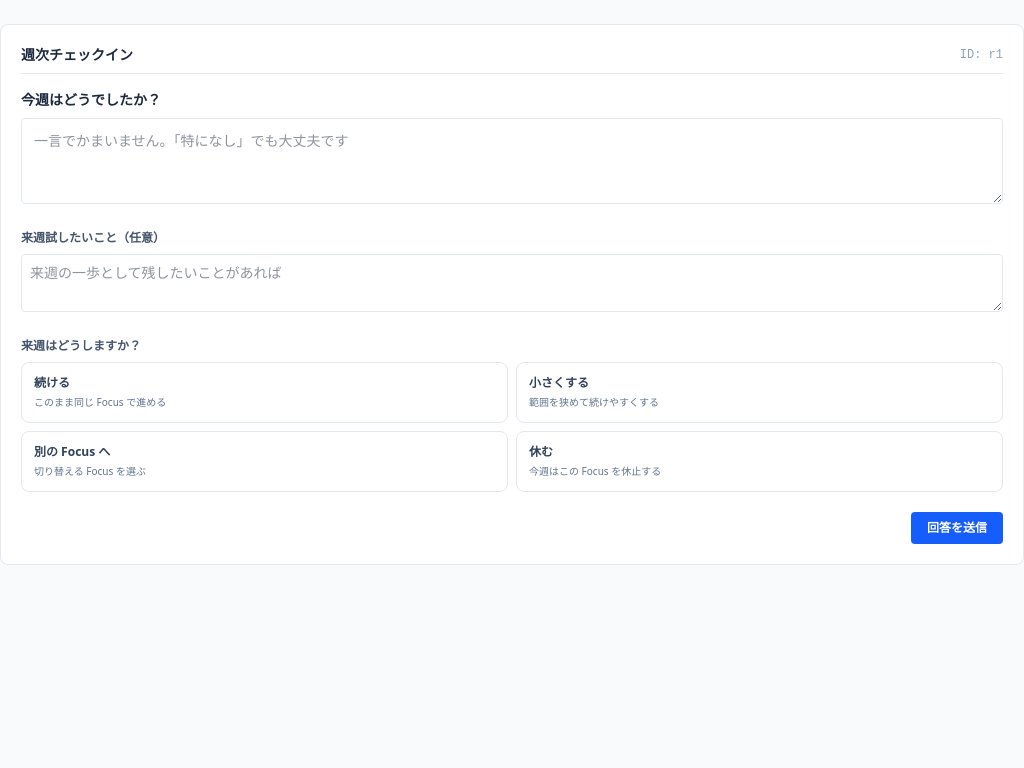
Test case: WeeklyCheckinCard › blocks change when there is no switchable focus
The width and height of the screenshot is (1024, 768).
Type "方向転換したい" into the text box named "今週の振り返り" at (512, 161), box left=21, top=118, right=1003, bottom=204
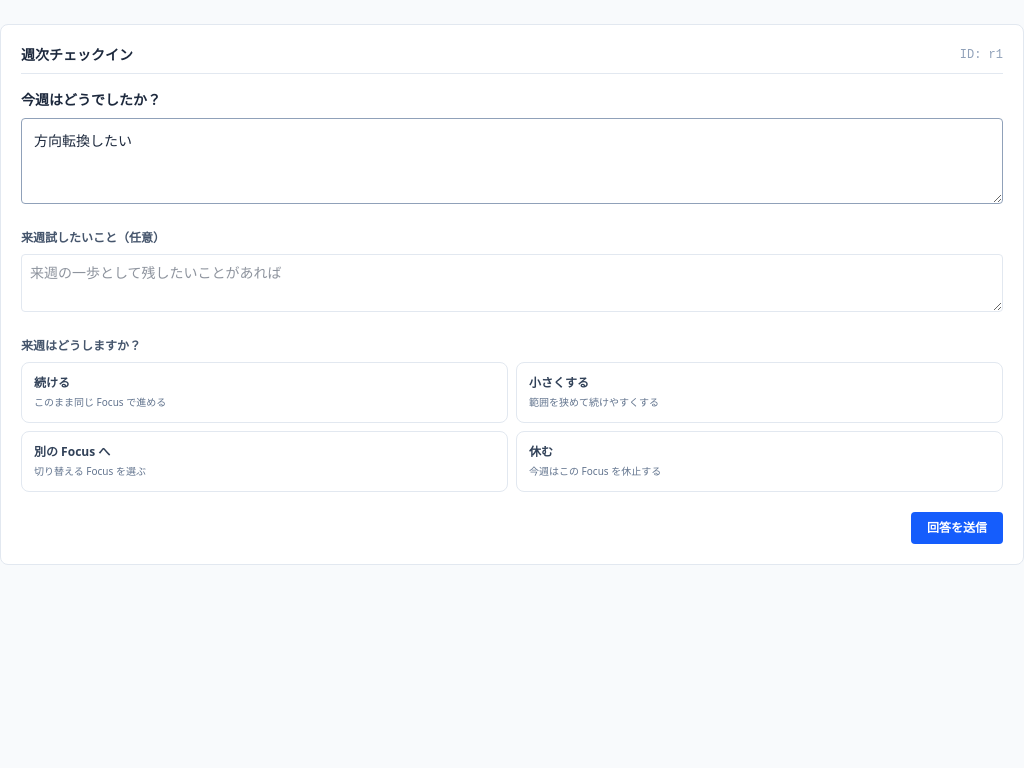
Click the button "別の Focus へ 切り替える Focus を選ぶ" at (72, 452), box left=21, top=431, right=508, bottom=492
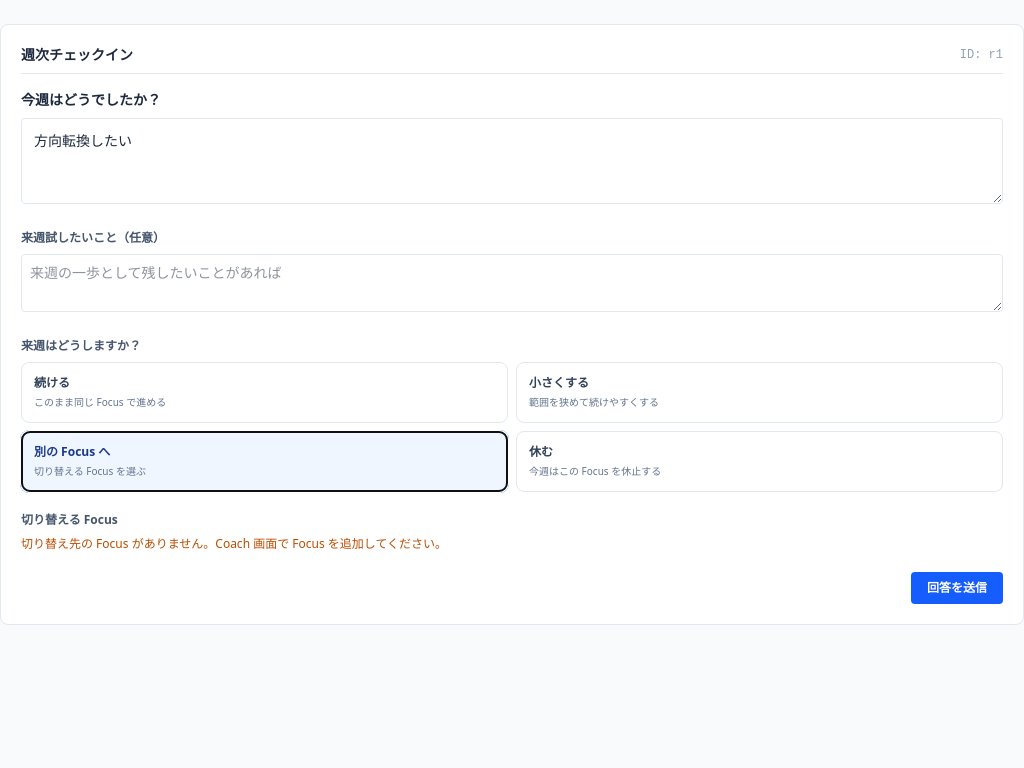
Click the button "回答を送信" at (957, 588), box left=911, top=572, right=1003, bottom=604
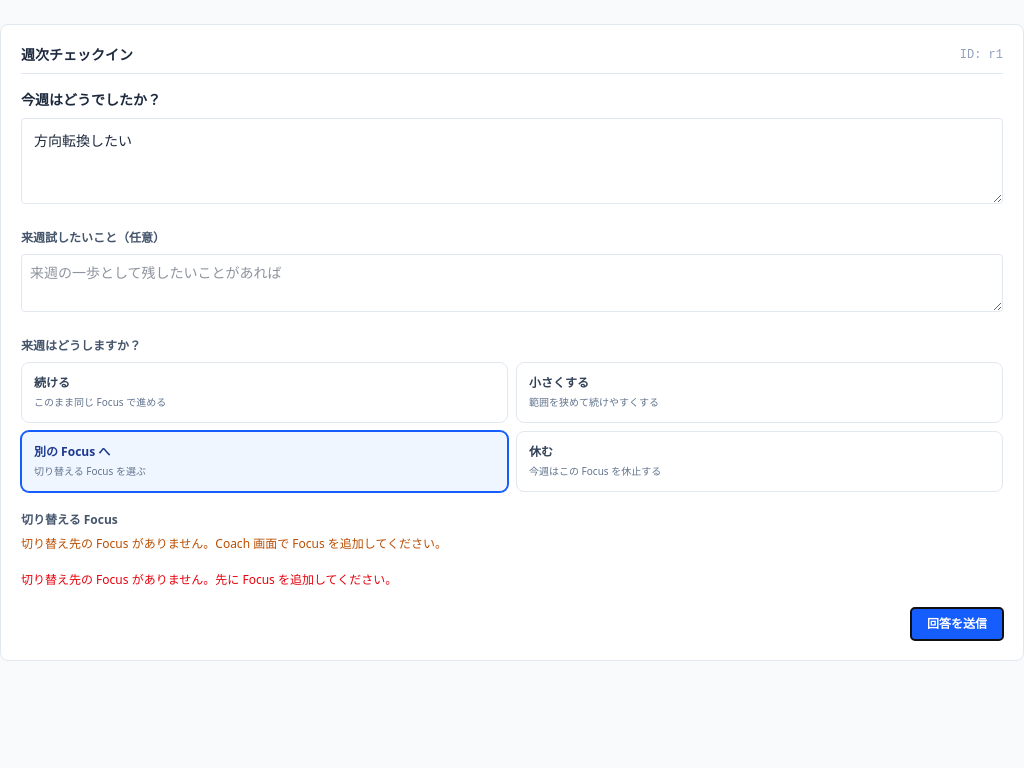
Now the text "切り替え先の Focus がありません。先に Focus を追加してください。" is shown, box left=21, top=571, right=397, bottom=588
